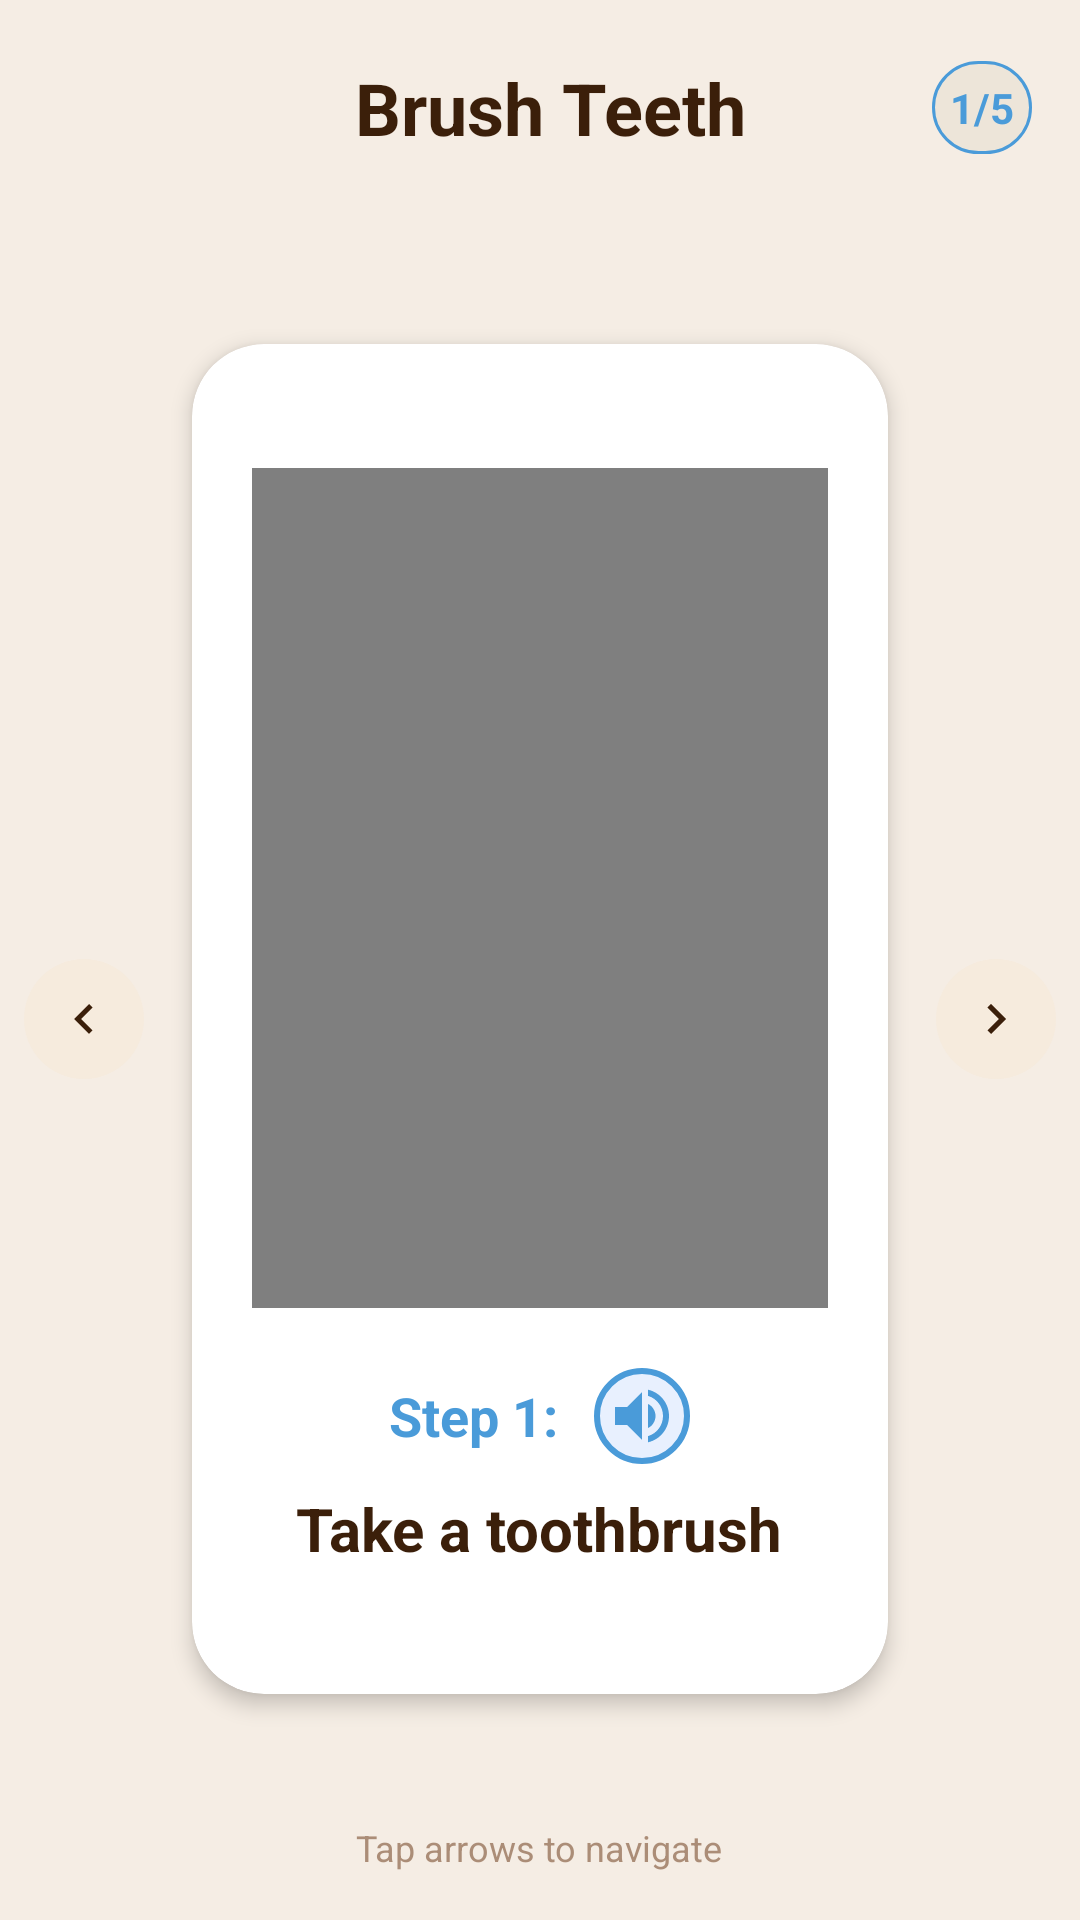

Where icons sit on this 1080w x 1920h app screen, as (x1, y1, x2, y2):
arrow left: (74, 1004, 93, 1034)
arrow right: (987, 1004, 1006, 1034)
Read aloud: (594, 1368, 690, 1464)
